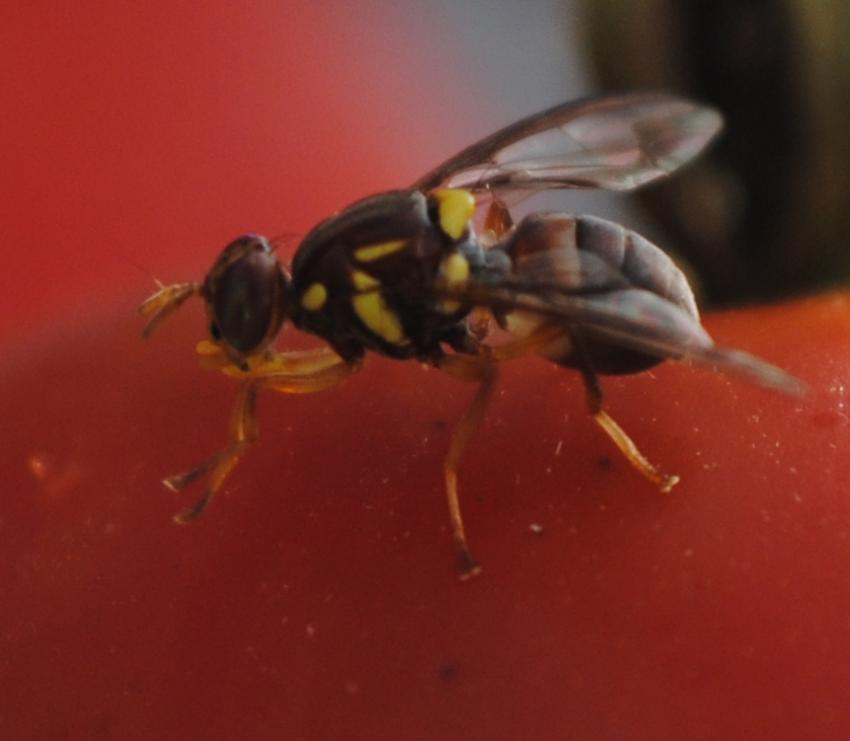Fruit fly: (145, 85, 737, 509)
